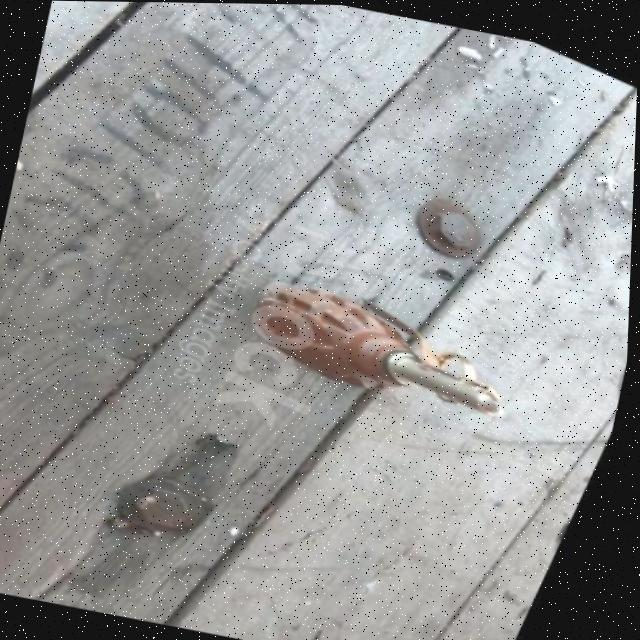grenade: (221, 247, 534, 445)
